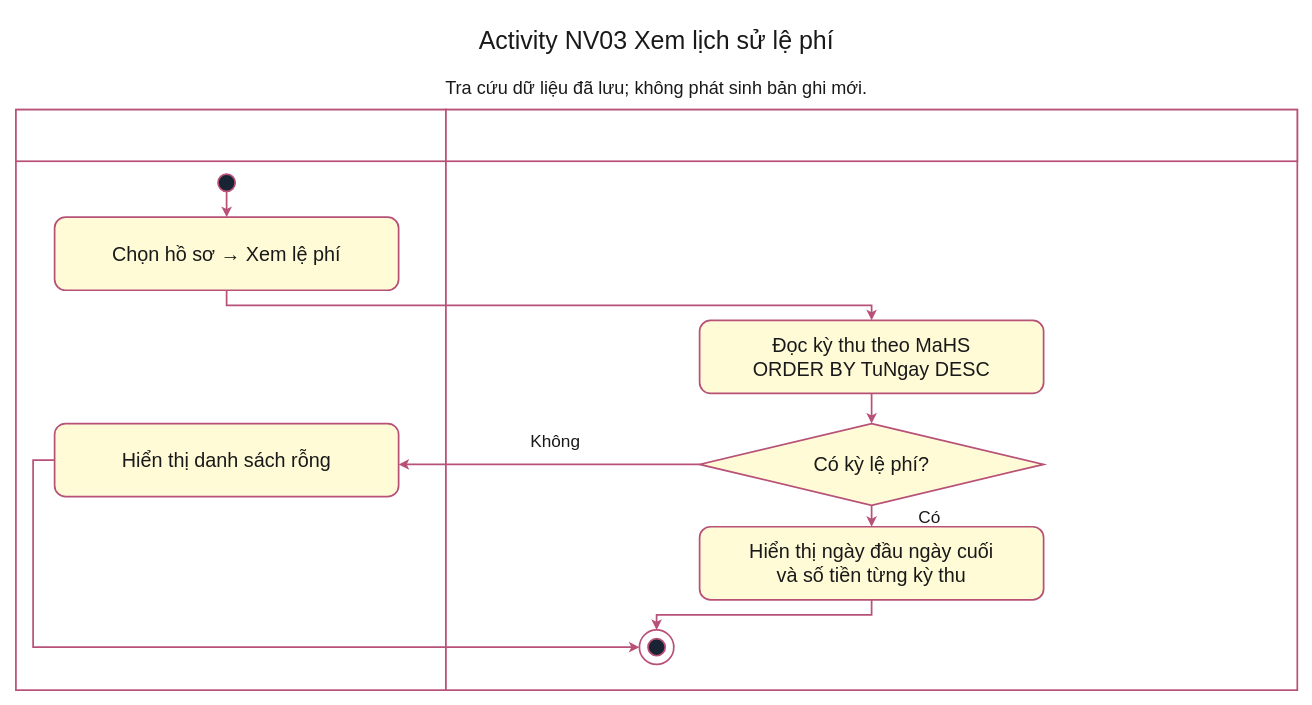
Some shapes in this 1312 by 705 pixel diagram are drawn without their labels. The shapes that lost their labels are listed below. From the top down, each one's box as (x1, y1, x2, y2) in pixels, then its label:
(15, 108, 446, 162): Nhân viên CSKH
(445, 108, 1298, 162): Ứng dụng và SQL Server
